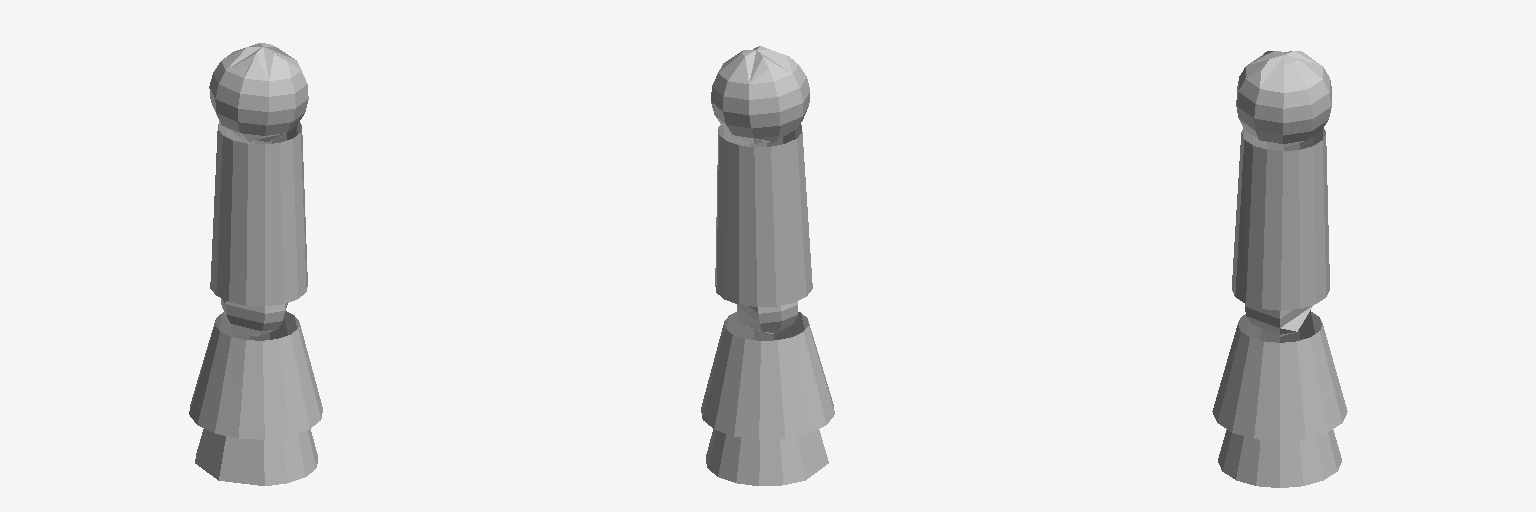
The model's file is low_right_arm.obj.
3 views of the same model, side by side, from view 1: azimuth 30°, elevation 25°; view 2: azimuth 150°, elevation 25°; view 3: azimuth 270°, elevation 25° (orthographic).
Visible parts, largest first — view 1: polySurface37; view 2: polySurface37; view 3: polySurface37.
Boxes of the visible parts, box(x1,y1,x2,y2) form: polySurface37: box(189, 43, 322, 485); polySurface37: box(701, 46, 834, 485); polySurface37: box(1212, 51, 1347, 487).
Bounding box in the file's own units: 2.05 × 6.87 × 2.05.